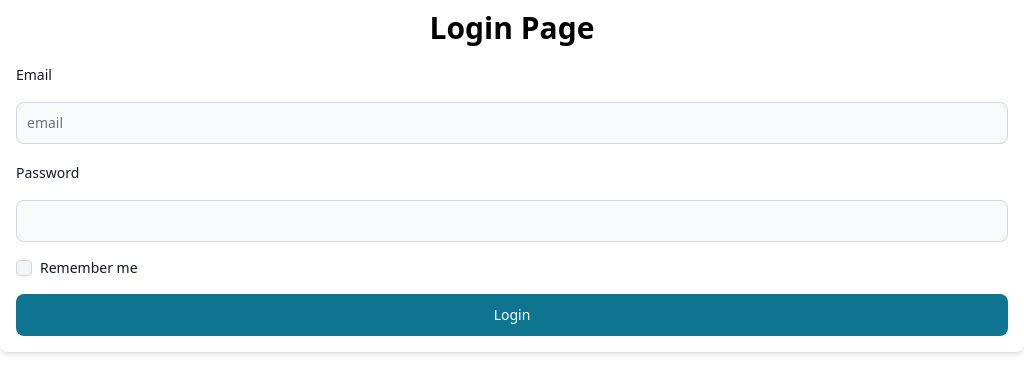
Login form submit › should display a toast when the form is submitted
Type "dave@gmail.com" into the field with placeholder "Email" at (512, 123), box [16,102,1008,144]
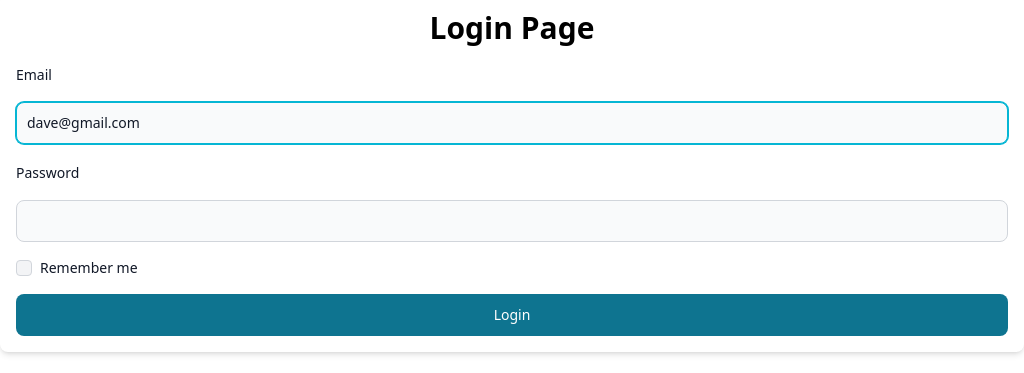
Type "Davejs$21" into the password field labelled "Password" at (512, 221), box [16,200,1008,242]
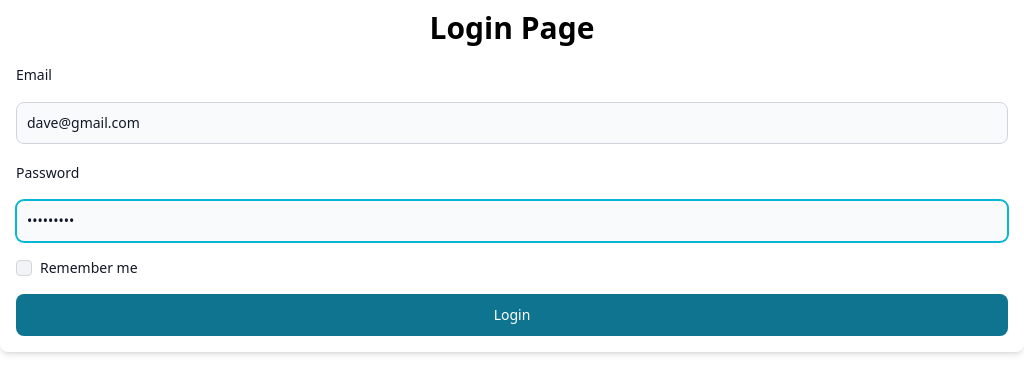
Click the button "Login" at (512, 315), box [16,294,1008,336]
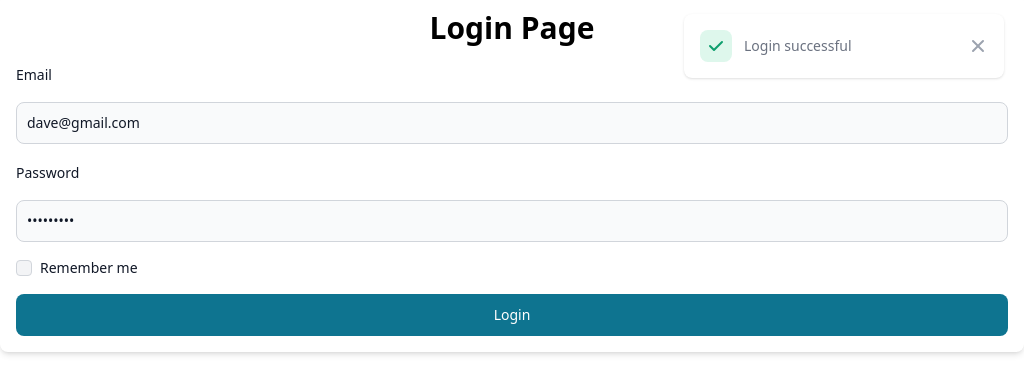
Result: the text "Login successful" is shown at [744,36,852,56]
